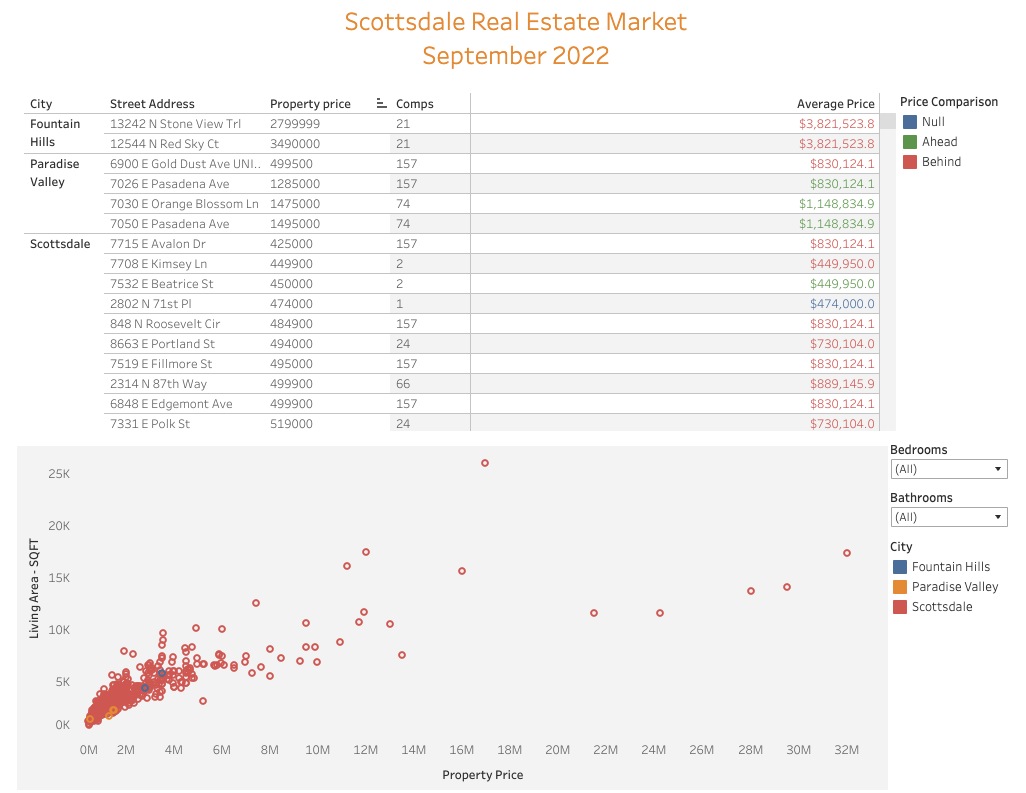

Layout of this report page (visuals, bound fields, positions):
{"tool":"tableau","page":{"name":"Dashboard 1","canvas":[1000,800],"ordinal":0},"visuals":[{"type":"title","box":[8,8,984,76]},{"type":"worksheet","title":"Table","mark":"Automatic","rows":["City","Street Address","Property price","Calculation_160581483657211904"],"box":[0,85,856,357]},{"type":"legend","title":"Table","param":"[federated.1bvop6e0ilq1gj1a4vi1o16e7pkc].[none:Calculation_160581483660120066:nk","box":[858,100,135,90]},{"type":"worksheet","title":"Scatter Plot","mark":"Automatic","rows":["Living Area"],"cols":["Property price"],"box":[0,442,857,357]},{"type":"filter","title":"Scatter Plot","param":"[federated.1bvop6e0ilq1gj1a4vi1o16e7pkc].[none:Bedrooms:nk]","box":[859,458,132,52]},{"type":"filter","title":"Scatter Plot","param":"[federated.1bvop6e0ilq1gj1a4vi1o16e7pkc].[none:Bathrooms:nk]","box":[860,512,132,52]},{"type":"legend","title":"Scatter Plot","param":"[federated.1bvop6e0ilq1gj1a4vi1o16e7pkc].[none:City:nk]","box":[859,565,136,78]}]}

Visuals, with their boxes on the page's 1000x800 design canvas (x1, y1, x2, y2). These are canvas units, not pixel positions in the 1026x793 screenshot, which may show the page scaled, cropped or inside an application window:
title: <box>8,8,992,84</box>
"Table" worksheet: <box>0,85,856,442</box>
"Table" legend: <box>858,100,993,190</box>
"Scatter Plot" worksheet: <box>0,442,857,799</box>
"Scatter Plot" filter: <box>859,458,991,510</box>
"Scatter Plot" filter: <box>860,512,992,564</box>
"Scatter Plot" legend: <box>859,565,995,643</box>
